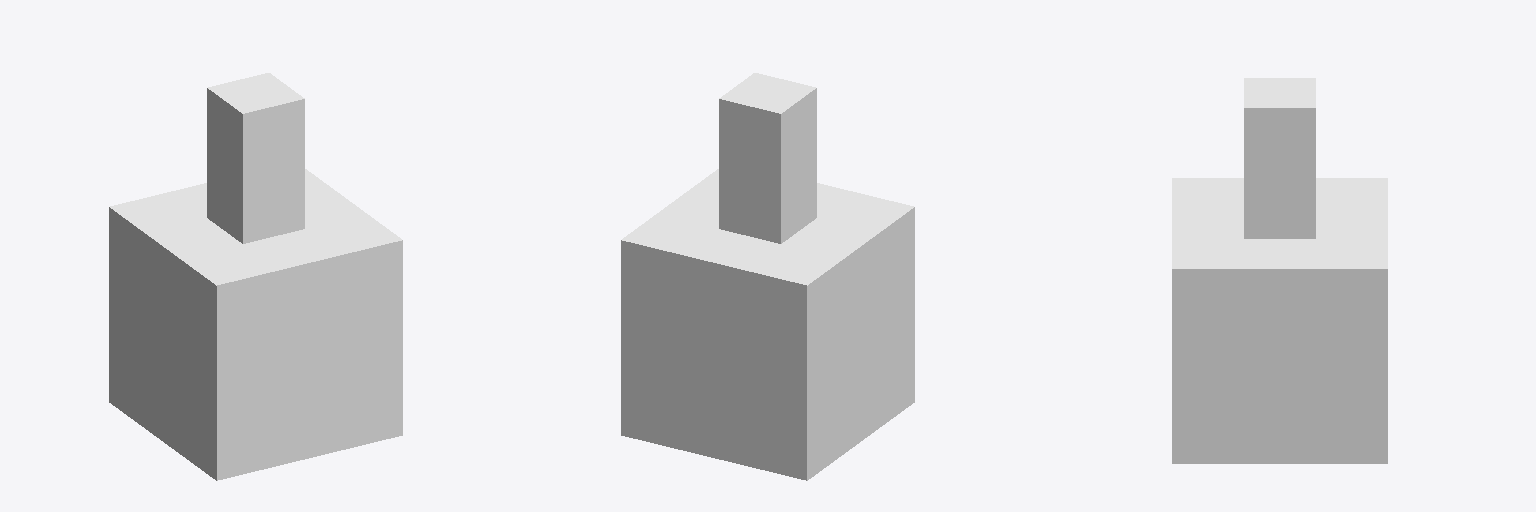
File: SH_Enviorment-0-Landmine_Smine.obj
The picture shows the model from 3 angles: view 1: azimuth 30°, elevation 25°; view 2: azimuth 150°, elevation 25°; view 3: azimuth 270°, elevation 25°; orthographic projection.
Visible parts, largest first — view 1: Landmine_Smine; view 2: Landmine_Smine; view 3: Landmine_Smine.
Boxes of the visible parts, x1,y1,x2,y2 form: Landmine_Smine: [109, 73, 402, 480]; Landmine_Smine: [621, 73, 914, 480]; Landmine_Smine: [1172, 78, 1387, 463].
Bounding box in the file's own units: 0.3 × 0.5 × 0.3.